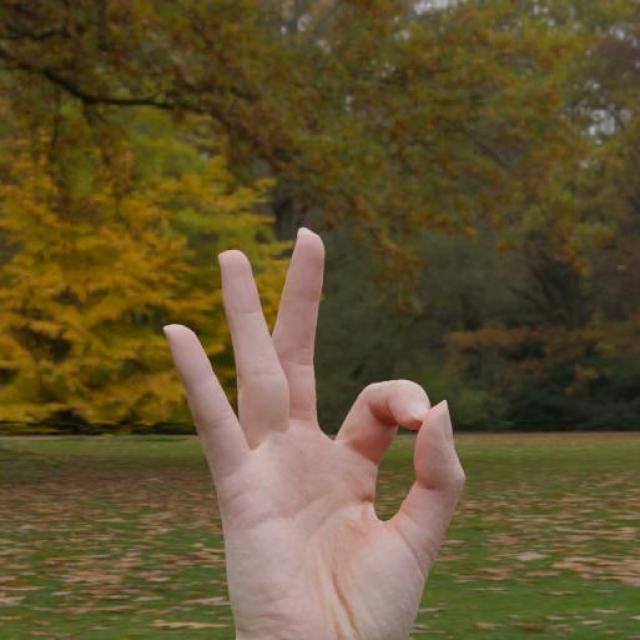F: (159, 220, 470, 640)
